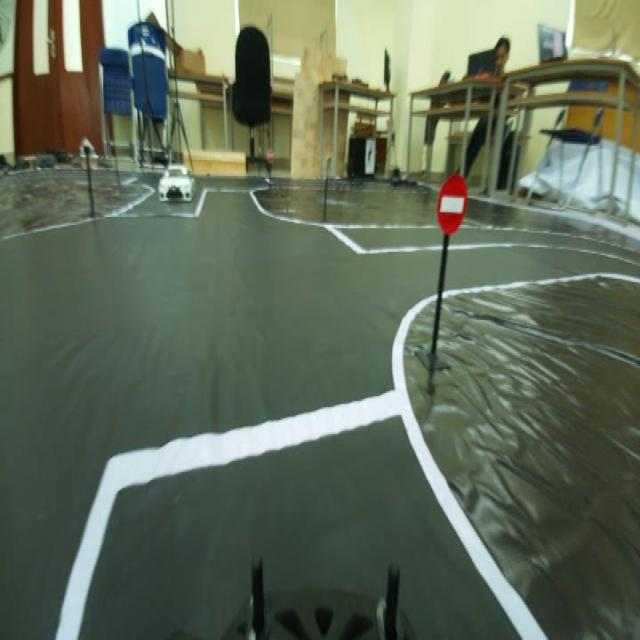no_entry: (432, 167, 470, 246)
